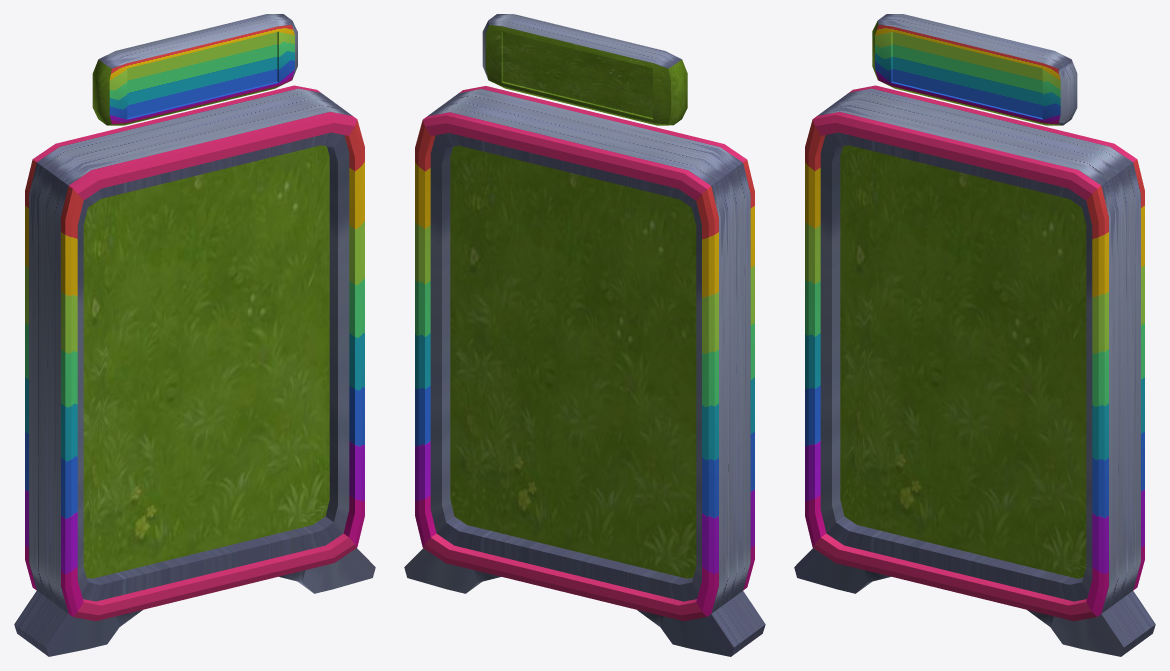
Rendered from paihangbang.fbx.
3 renders of one model, left to right at view 1: azimuth 30°, elevation 25°; view 2: azimuth 150°, elevation 25°; view 3: azimuth 330°, elevation 25°, orthographic.
Visible parts, largest first — view 1: paihangbang; view 2: paihangbang; view 3: paihangbang.
Boxes of the visible parts, x1=… form: paihangbang: x1=14, y1=14, x2=375, y2=656; paihangbang: x1=404, y1=14, x2=765, y2=656; paihangbang: x1=794, y1=14, x2=1155, y2=656.
Size of the model in its own units: 820 by 1359 by 184.
